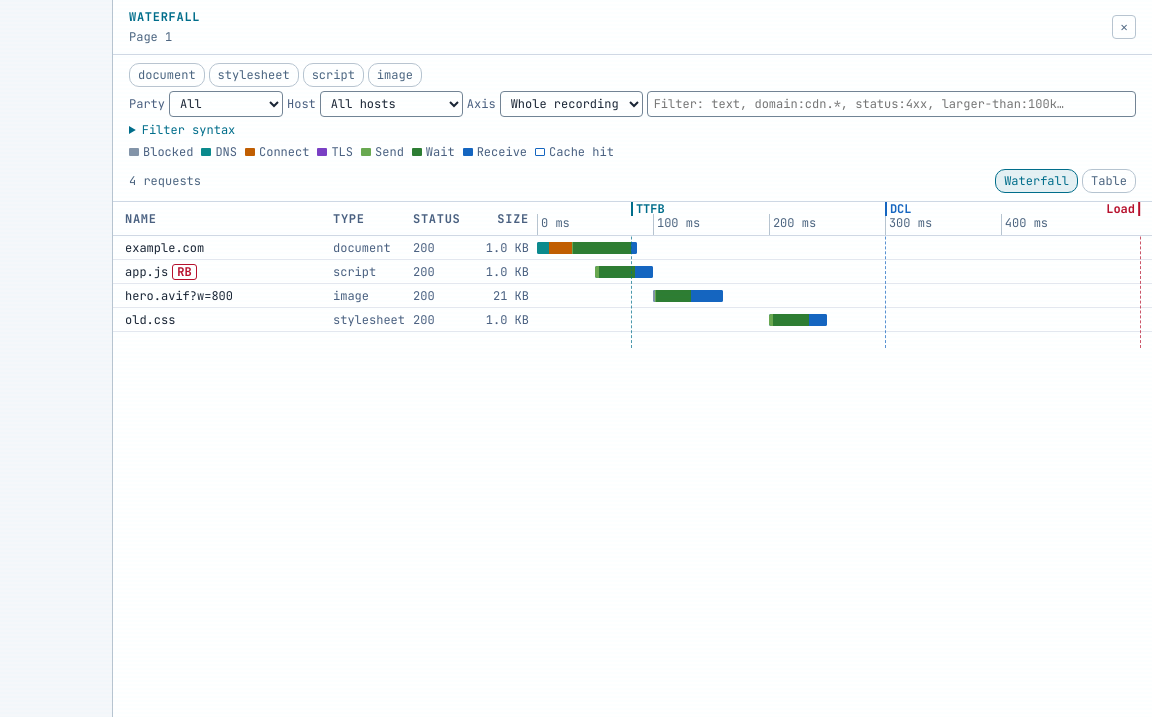
Test: WaterfallPanel: the detail of a request › gives every timing phase, sizes and the cache status
This screenshot has width=1152, height=717.
Click the button "hero.avif?w=800 image 200 21 KB": (179, 296) [113, 284, 1151, 308]
(page scrolled)
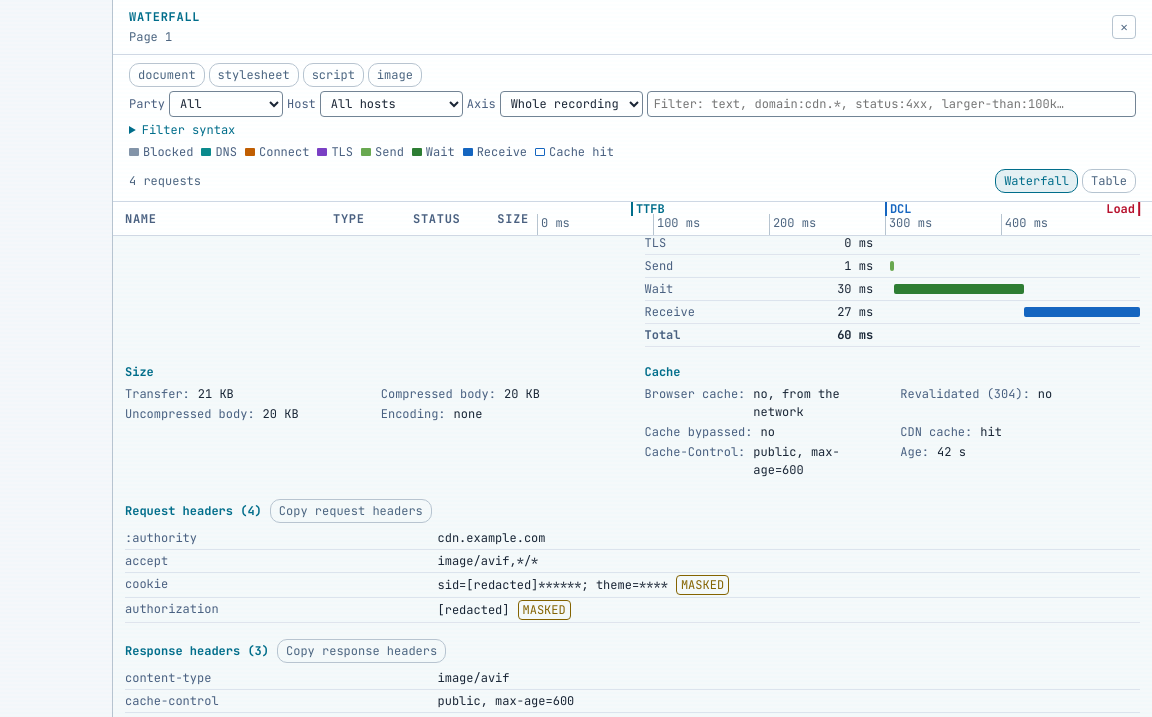
Expected: the 1st text "20 KB" is shown, [504, 385, 540, 403]
Expected: the text "hit" is shown, [980, 423, 1002, 441]
Expected: the text "public, max-age=600" in the row of "42 s" is shown, [753, 444, 840, 478]
